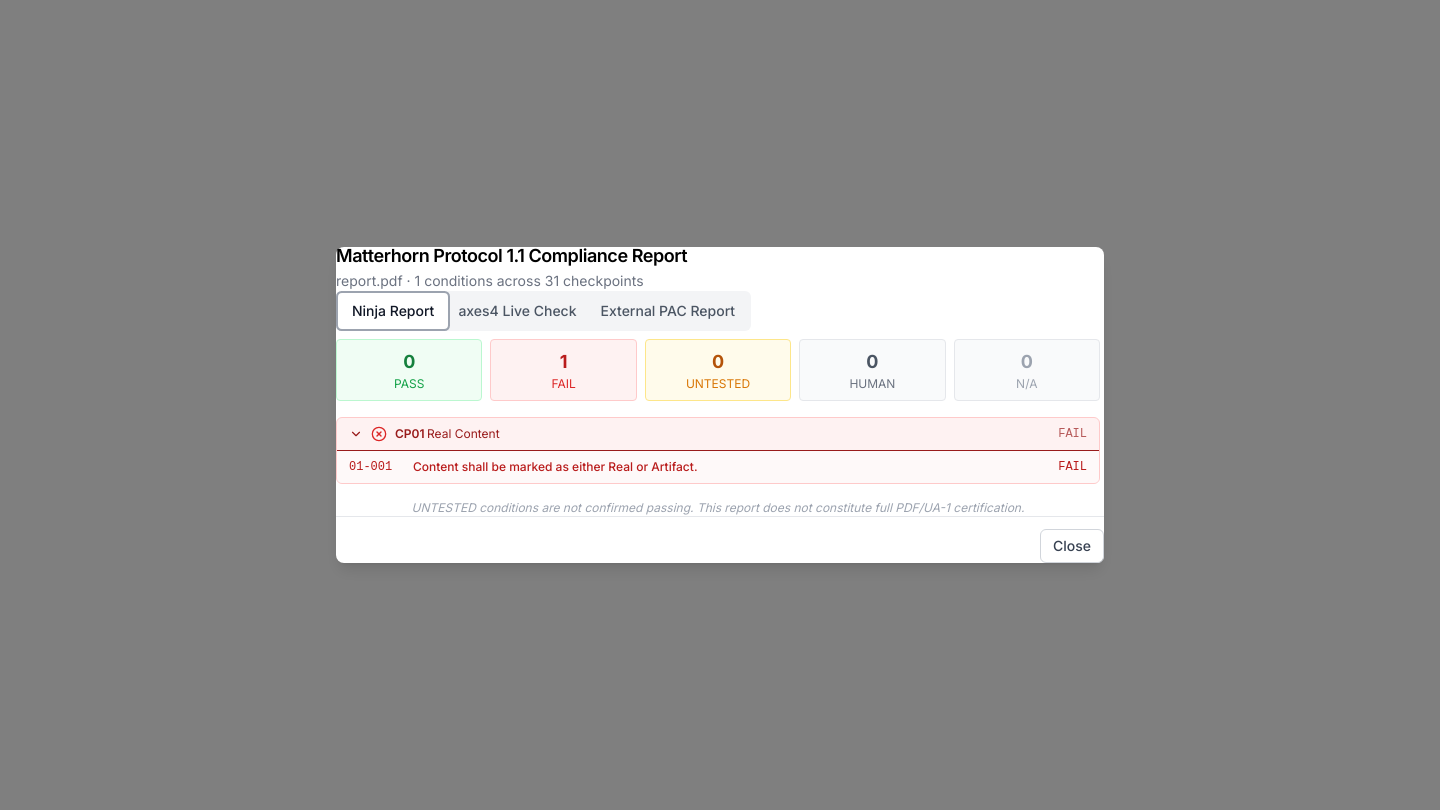
Test case: PacReportModal › axes4 Live Check tab › shows the tab and the quota line when configured
This screenshot has width=1440, height=810.
Click the tab "axes4 Live Check". click: (517, 311)
box: [446,295,588,327]
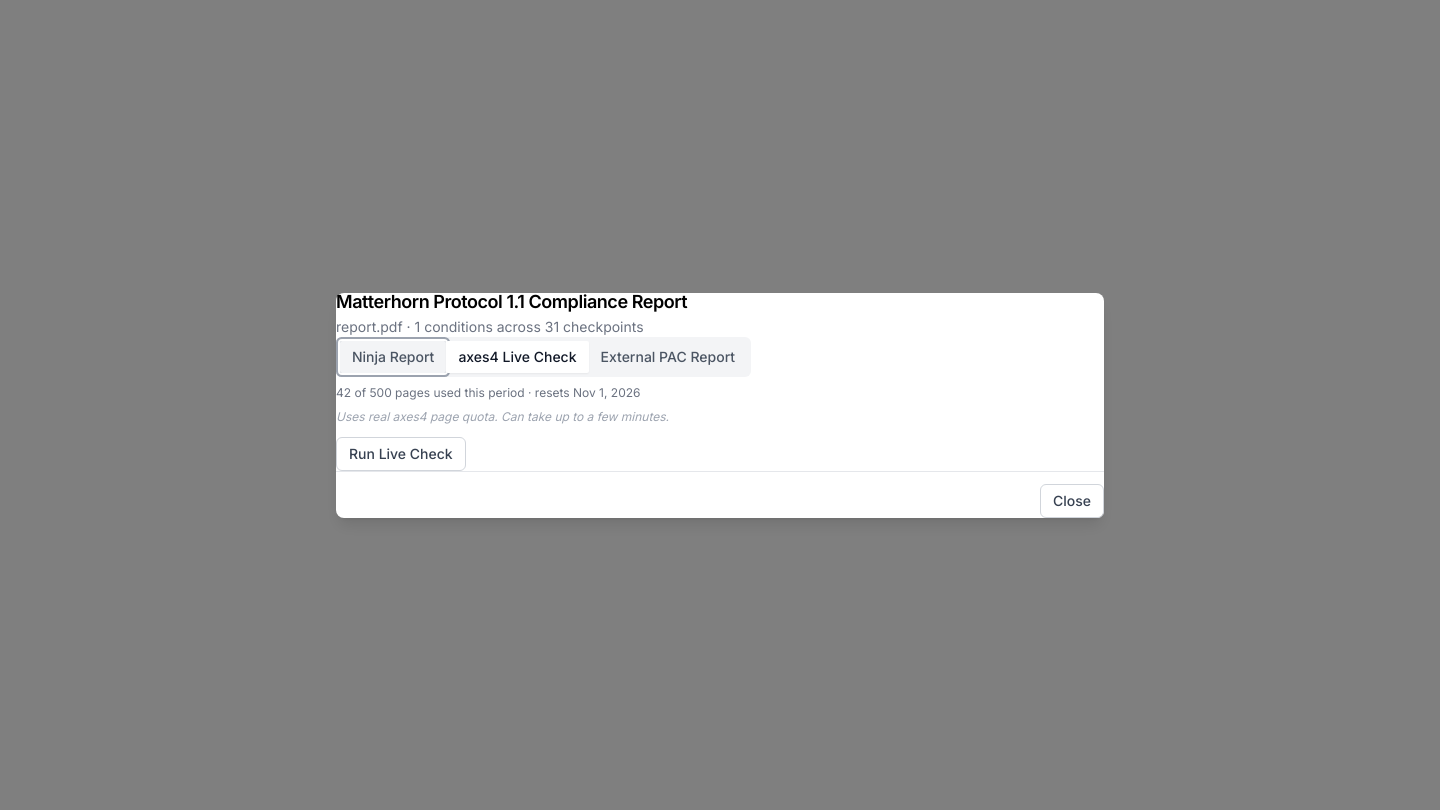
Check: the text "42 of 500 pages used this period · resets Nov 1, 2026" is shown, box [336,384,640,400]
